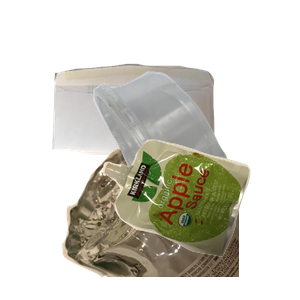glass: (60, 120, 300, 300)
paper: (50, 61, 257, 211)
plastic: (91, 69, 300, 249)
trash: (100, 137, 300, 300)
